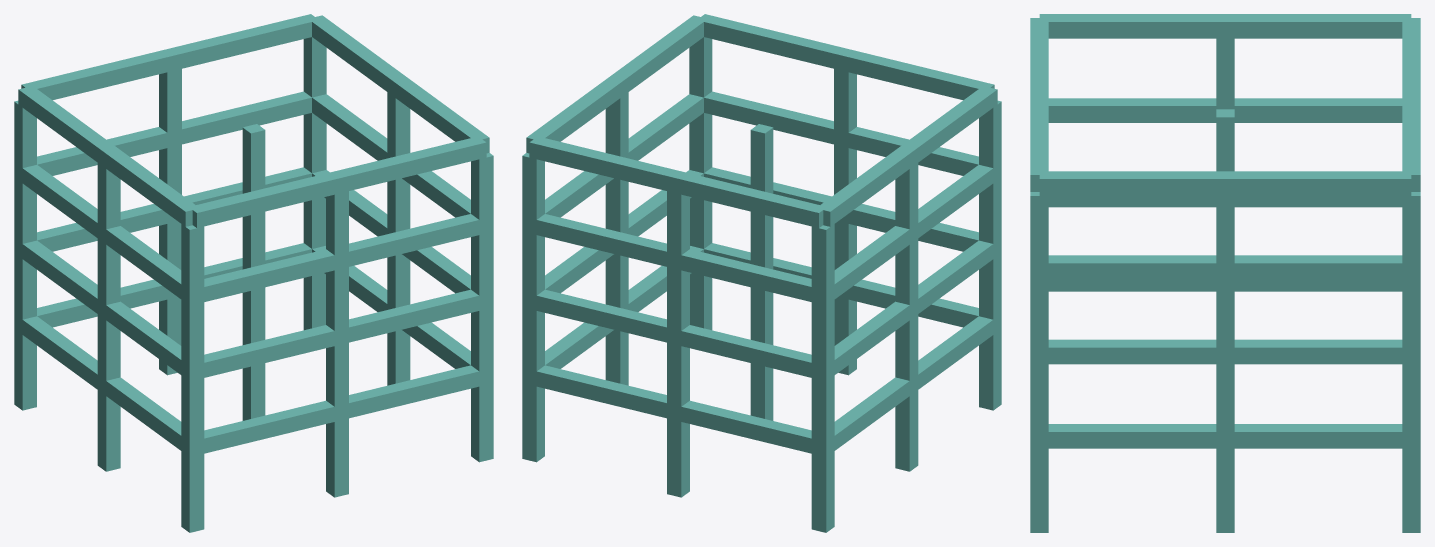
File: voxel-city-districts-climbing-cube-172da8c0__24868.glb
The picture shows the model from 3 angles, left to right: view 1: azimuth 30°, elevation 25°; view 2: azimuth 150°, elevation 25°; view 3: azimuth 270°, elevation 25°; orthographic projection. The views are drawn at different scales.
Parts seen in each view (by area): view 1: climbing-cube-accent; view 2: climbing-cube-accent; view 3: climbing-cube-accent.
Boxes of the visible parts, x1,y1,x2,y2 form: climbing-cube-accent: (14,14,493,532); climbing-cube-accent: (522,14,1001,532); climbing-cube-accent: (1030,14,1420,532).
Size of the model in its own units: 2.1 by 2.1 by 2.1.
